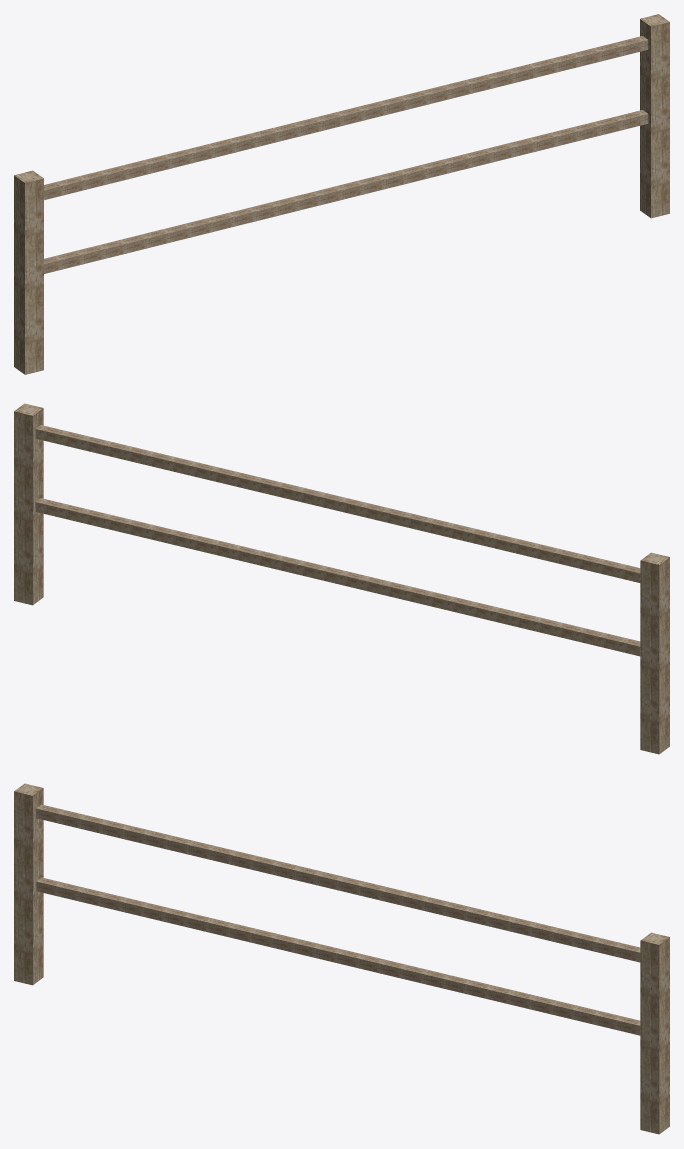
File: fence1.FBX
3 renders of one model, top to bottom at view 1: azimuth 30°, elevation 25°; view 2: azimuth 150°, elevation 25°; view 3: azimuth 330°, elevation 25°, orthographic.
Parts seen in each view (by area): view 1: Fence; view 2: Fence; view 3: Fence.
Part boxes in pixels (x1,y1,x2,y2): Fence: (14, 14, 669, 374); Fence: (14, 403, 669, 754); Fence: (14, 783, 669, 1134).
Size of the model in its own units: 6.84 by 1.93 by 0.2731.
